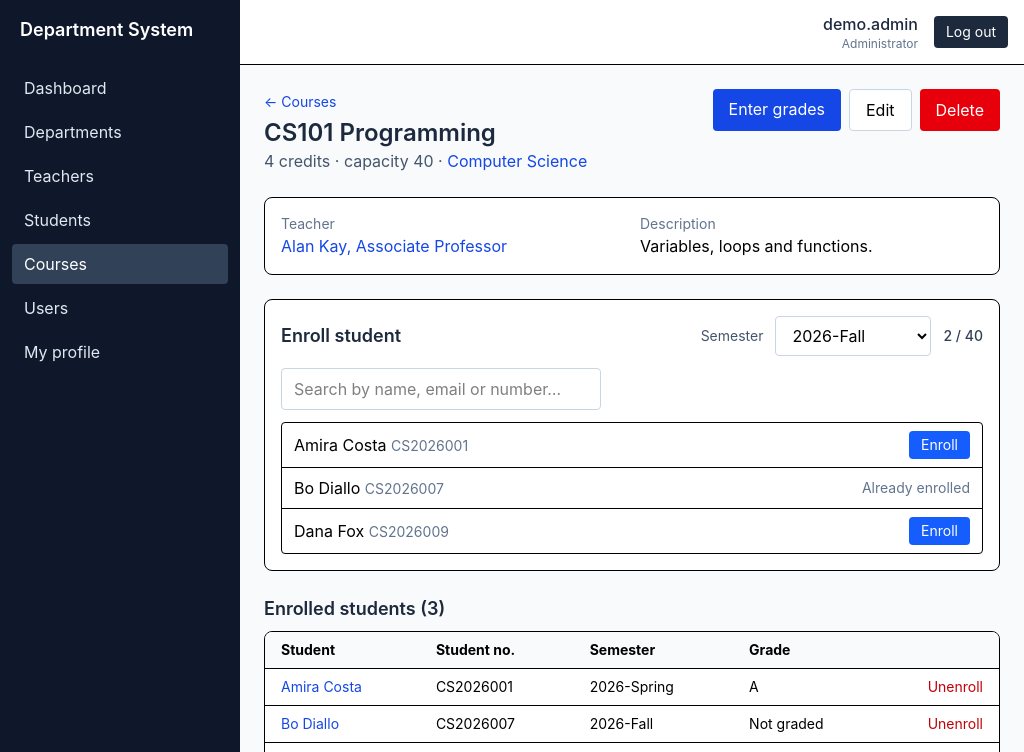
unenroll › shows the server's message if unenrolling fails
The image size is (1024, 752).
What coordinates should you click on to do the following:
click the button with aria-label "Unenroll Bo Diallo (2026-Fall)"
I would click on:
 (955, 724)
Its box is [928,714,983,734].
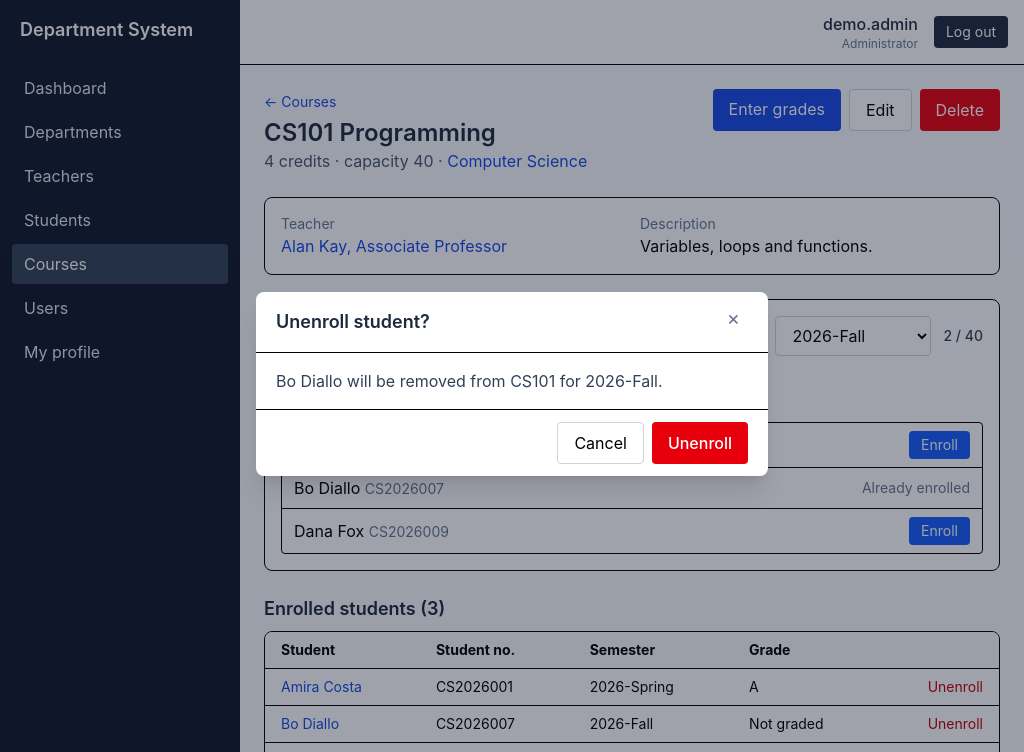
What coordinates should you click on to do the following:
click the button "Unenroll"
I would click on:
 (700, 443)
Its box is [652,422,748,464].
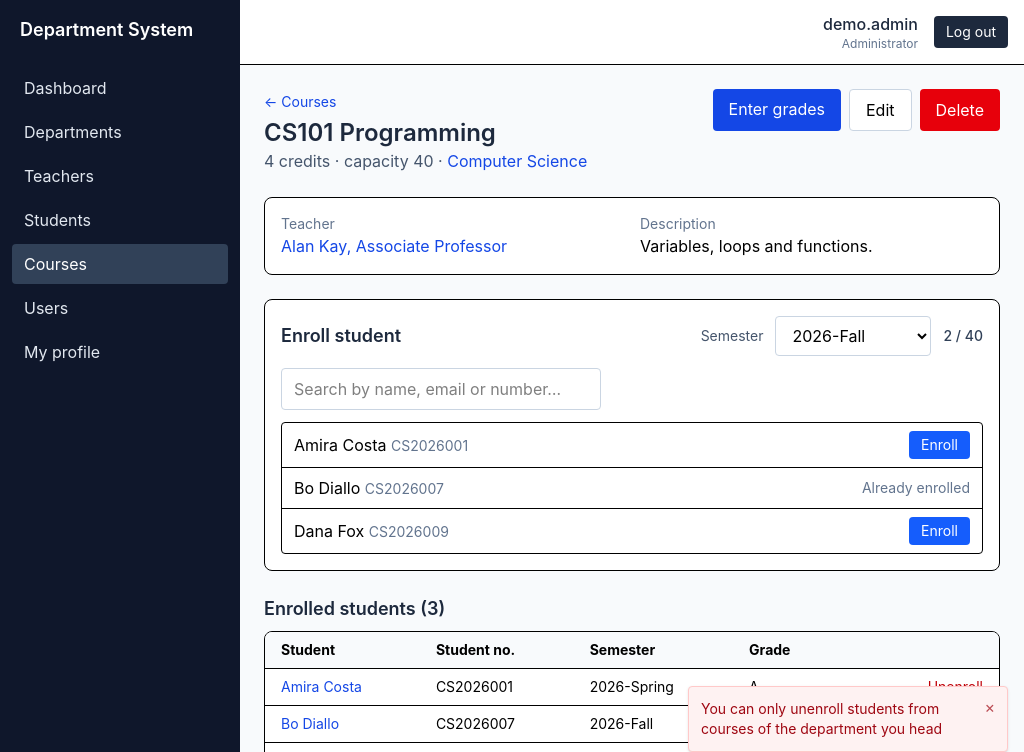
Expected: the message shows "department you head", [701,700,942,737]
